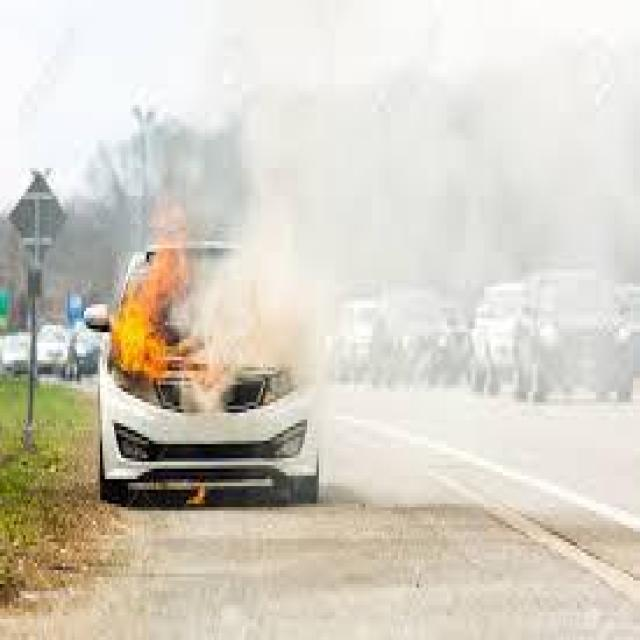fire: (105, 203, 187, 378), (174, 457, 209, 522)
smoke: (232, 52, 611, 358)
